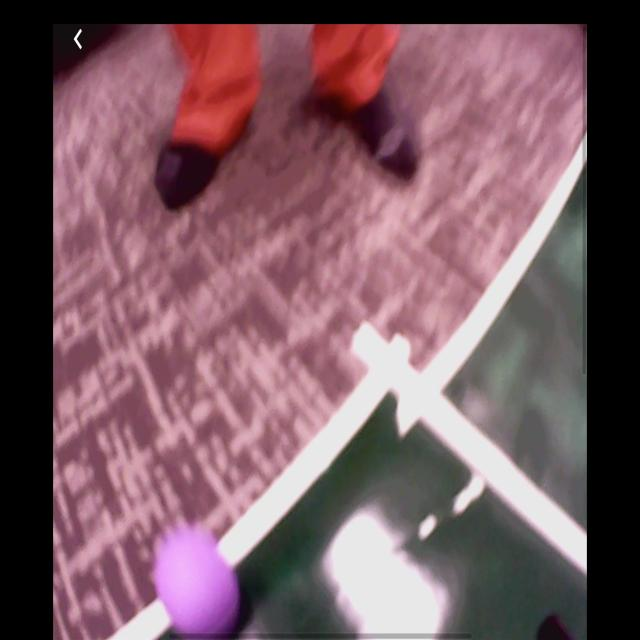ball: (155, 529, 246, 634)
